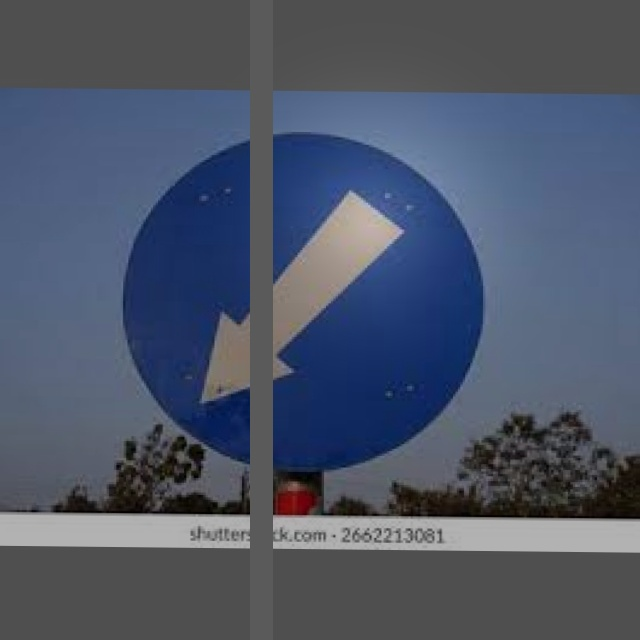Compulsory_Keep_Left: (124, 135, 475, 458)
